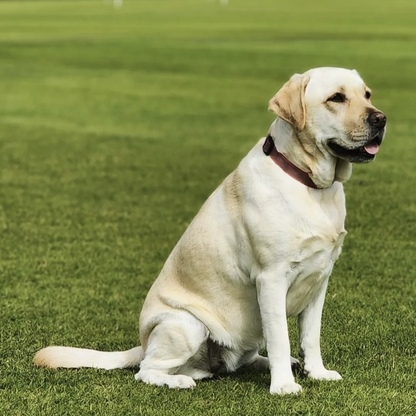labrado: (23, 60, 395, 401)
